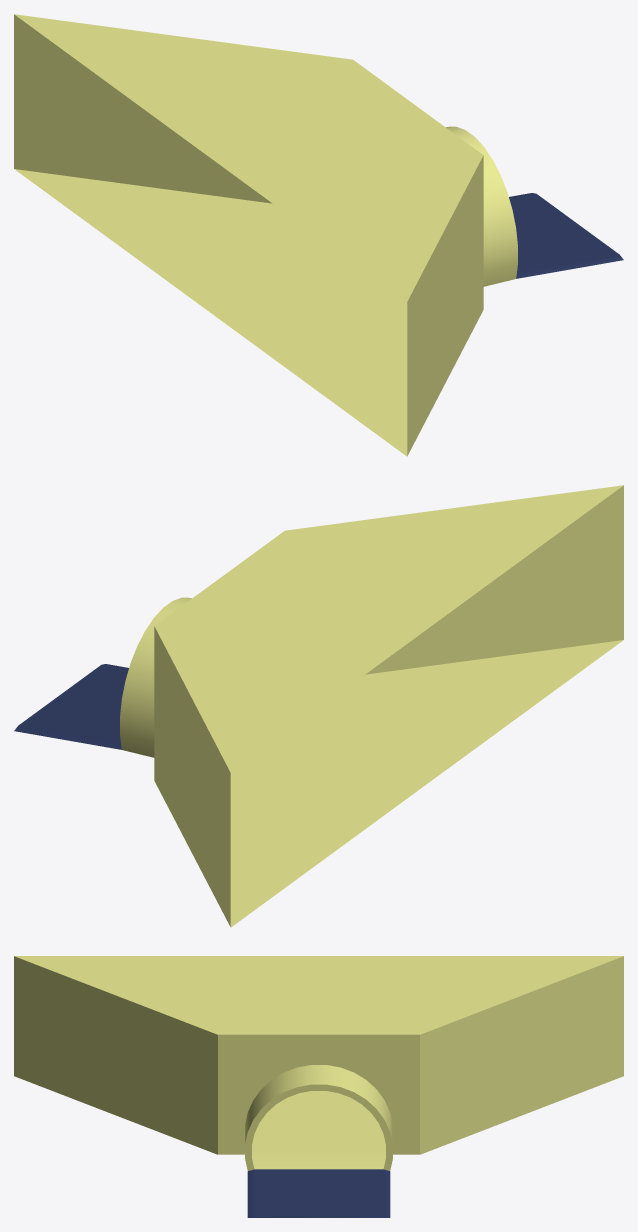
The model's file is Тунель 5 (enter).fbx.
3 views of the same model, one above another, from view 1: azimuth 30°, elevation 25°; view 2: azimuth 150°, elevation 25°; view 3: azimuth 270°, elevation 25° (orthographic). The views are drawn at different scales.
Parts seen in each view (by area): view 1: Enter 2; view 2: Enter 2; view 3: Enter 2.
Boxes of the visible parts, box(x1,y1,x2,y2) form: Enter 2: box(14, 14, 623, 456); Enter 2: box(14, 485, 623, 927); Enter 2: box(14, 956, 623, 1217).
Bounding box in the file's own units: 3538 × 1454 × 6557.
